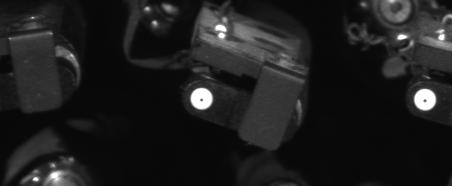fiber: (186, 83, 218, 115), (409, 85, 441, 117)
